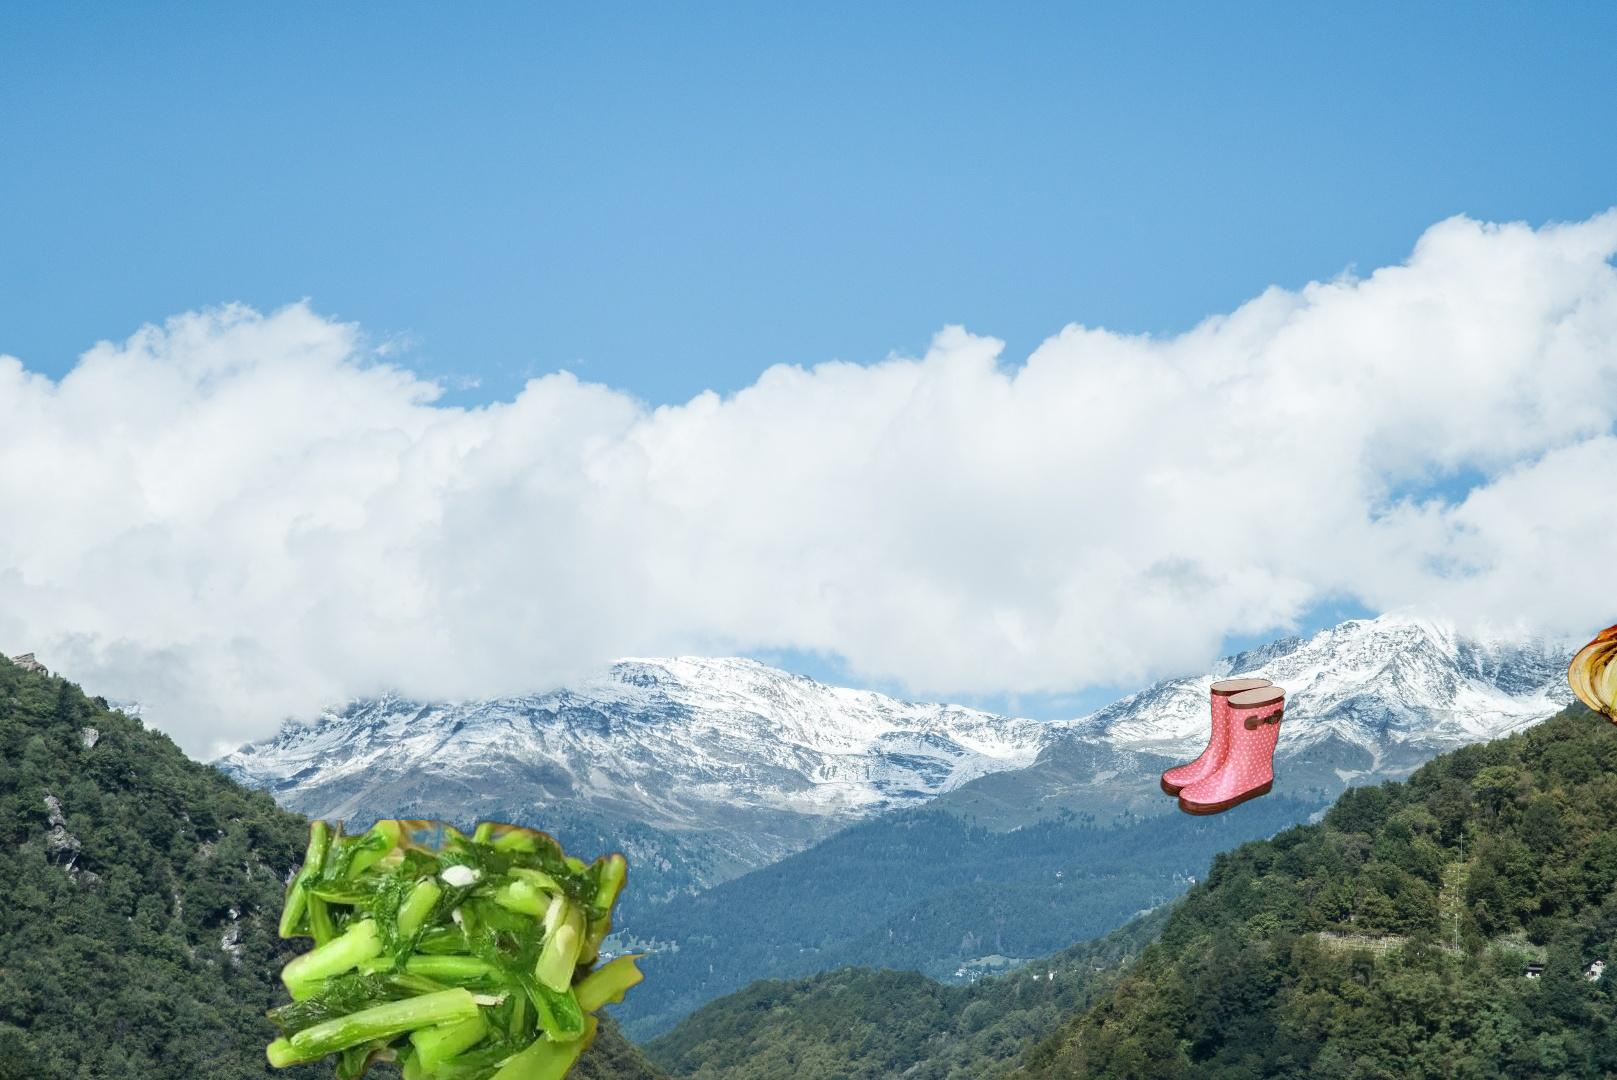biological: (257, 820, 659, 1080), (1565, 576, 1617, 755)
shoes: (1157, 676, 1288, 818)
